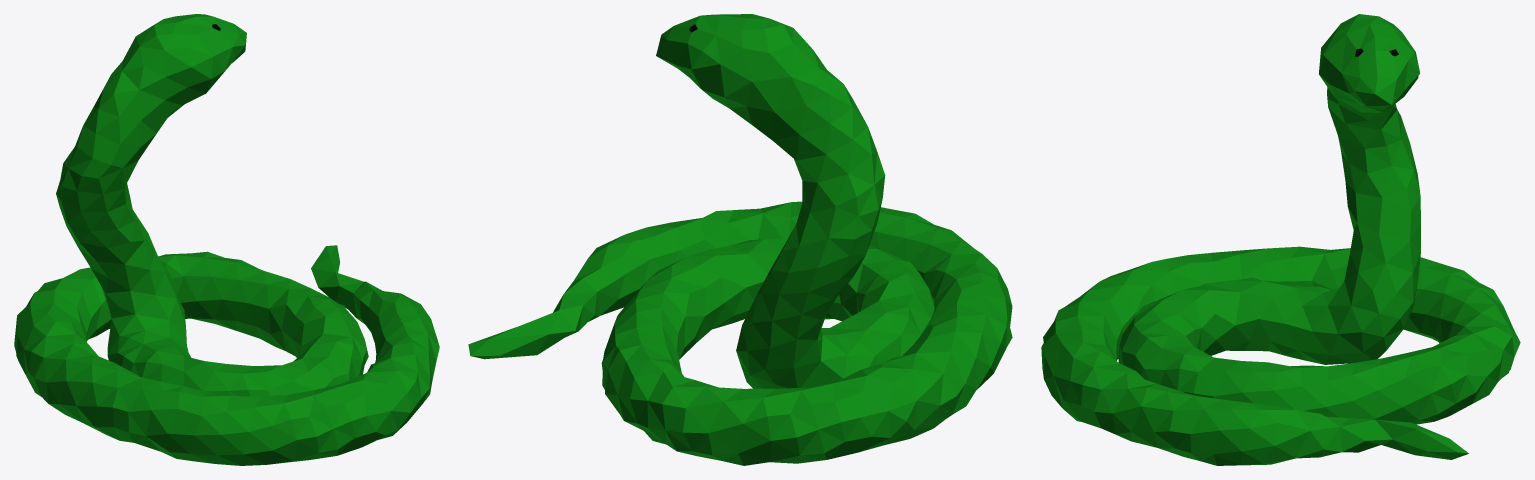
File: snek.fbx
3 views of the same model, side by side, from view 1: azimuth 30°, elevation 25°; view 2: azimuth 150°, elevation 25°; view 3: azimuth 270°, elevation 25° (orthographic). The views are drawn at different scales.
Visible parts, largest first — view 1: snek; view 2: snek; view 3: snek.
Part boxes in pixels (x1,y1,x2,y2): snek: [14, 14, 439, 465]; snek: [468, 14, 1012, 465]; snek: [1041, 14, 1520, 465].
Bounding box in the file's own units: 674 × 597 × 720.
